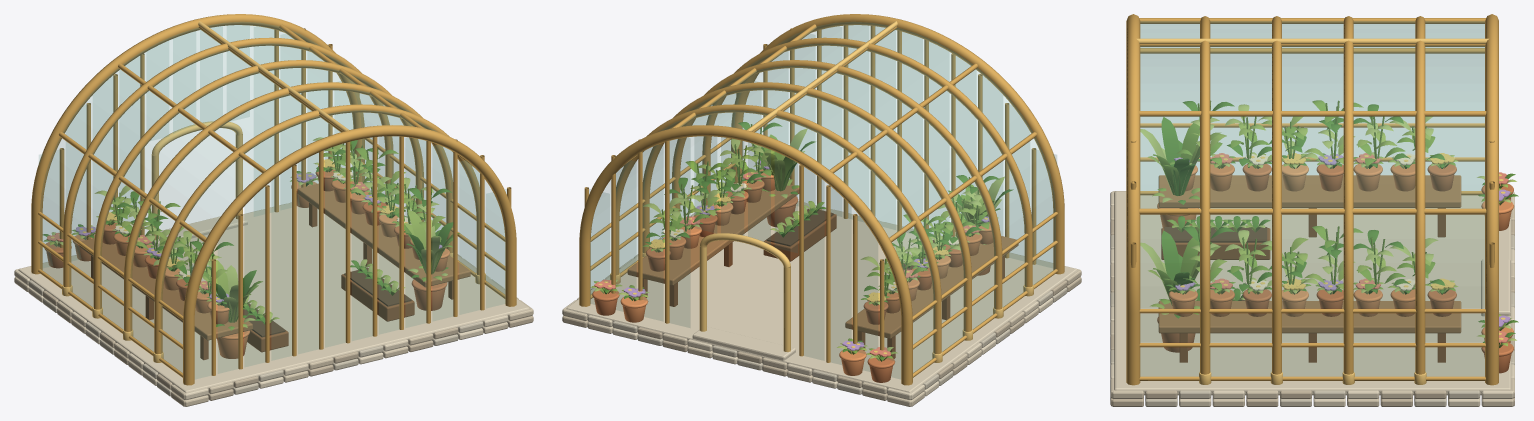
The model's file is greenhouse.fbx.
3 renders of one model, left to right at view 1: azimuth 30°, elevation 25°; view 2: azimuth 150°, elevation 25°; view 3: azimuth 270°, elevation 25°, orthographic. The views are drawn at different scales.
Parts seen in each view (by area): view 1: greenhouse • Glass • sea green clear, greenhouse • Brass • warm frames, greenhouse • Limestone • course 2, greenhouse • Timber • tabletop, greenhouse • Leaf • 1, greenhouse • Leaf • 3, greenhouse • Leaf • 0, greenhouse • Leaf • 2, greenhouse • Brass • bright fittings, greenhouse • Timber • warm oak, greenhouse • Limestone • course 1, greenhouse • Limestone • course 0 (+9 smaller); view 2: greenhouse • Glass • sea green clear, greenhouse • Brass • warm frames, greenhouse • Limestone • course 2, greenhouse • Timber • tabletop, greenhouse • Leaf • 1, greenhouse • Brass • bright fittings, greenhouse • Leaf • 2, greenhouse • Terracotta • tile 0, greenhouse • Leaf • 3, greenhouse • Leaf • 0, greenhouse • Limestone • course 1, greenhouse • Limestone • course 0 (+10 smaller); view 3: greenhouse • Glass • sea green clear, greenhouse • Brass • warm frames, greenhouse • Limestone • course 2, greenhouse • Timber • tabletop, greenhouse • Leaf • 1, greenhouse • Leaf • 0, greenhouse • Leaf • 3, greenhouse • Leaf • 2, greenhouse • Terracotta • tile 0, greenhouse • Brass • bright fittings, greenhouse • Terracotta • tile 1, greenhouse • Terracotta • tile 2 (+11 smaller).
Boxes of the visible parts, left/top/right/bottom form: greenhouse • Glass • sea green clear: left=39, top=22, right=508, bottom=378; greenhouse • Brass • warm frames: left=31, top=14, right=516, bottom=385; greenhouse • Limestone • course 2: left=14, top=189, right=529, bottom=399; greenhouse • Timber • tabletop: left=79, top=183, right=470, bottom=340; greenhouse • Leaf • 1: left=43, top=143, right=460, bottom=330; greenhouse • Leaf • 3: left=51, top=137, right=447, bottom=322; greenhouse • Leaf • 0: left=43, top=140, right=453, bottom=326; greenhouse • Leaf • 2: left=49, top=144, right=449, bottom=327; greenhouse • Brass • bright fittings: left=62, top=21, right=485, bottom=362; greenhouse • Timber • warm oak: left=91, top=203, right=453, bottom=360; greenhouse • Limestone • course 1: left=14, top=211, right=533, bottom=406; greenhouse • Limestone • course 0: left=43, top=204, right=533, bottom=406; greenhouse • Glass • sea green clear: left=587, top=22, right=1056, bottom=378; greenhouse • Brass • warm frames: left=579, top=14, right=1064, bottom=385; greenhouse • Limestone • course 2: left=562, top=191, right=1080, bottom=399; greenhouse • Timber • tabletop: left=627, top=184, right=1018, bottom=338; greenhouse • Leaf • 1: left=594, top=124, right=994, bottom=360; greenhouse • Brass • bright fittings: left=610, top=21, right=1033, bottom=362; greenhouse • Leaf • 2: left=590, top=146, right=985, bottom=355; greenhouse • Terracotta • tile 0: left=592, top=190, right=962, bottom=382; greenhouse • Leaf • 3: left=594, top=128, right=1004, bottom=360; greenhouse • Leaf • 0: left=603, top=122, right=1013, bottom=361; greenhouse • Limestone • course 1: left=562, top=192, right=1081, bottom=406; greenhouse • Limestone • course 0: left=562, top=205, right=1081, bottom=400; greenhouse • Glass • sea green clear: left=1140, top=21, right=1484, bottom=376; greenhouse • Brass • warm frames: left=1126, top=14, right=1498, bottom=385; greenhouse • Limestone • course 2: left=1110, top=191, right=1514, bottom=406; greenhouse • Timber • tabletop: left=1158, top=175, right=1461, bottom=333; greenhouse • Leaf • 1: left=1153, top=100, right=1511, bottom=345; greenhouse • Leaf • 0: left=1161, top=101, right=1518, bottom=343; greenhouse • Leaf • 3: left=1140, top=104, right=1516, bottom=341; greenhouse • Leaf • 2: left=1148, top=116, right=1507, bottom=347; greenhouse • Terracotta • tile 0: left=1157, top=163, right=1513, bottom=373; greenhouse • Brass • bright fittings: left=1136, top=38, right=1488, bottom=384; greenhouse • Terracotta • tile 1: left=1157, top=163, right=1415, bottom=316; greenhouse • Terracotta • tile 2: left=1168, top=164, right=1513, bottom=342.
Size of the model in its own units: 8.52 by 5.3 by 7.3.
